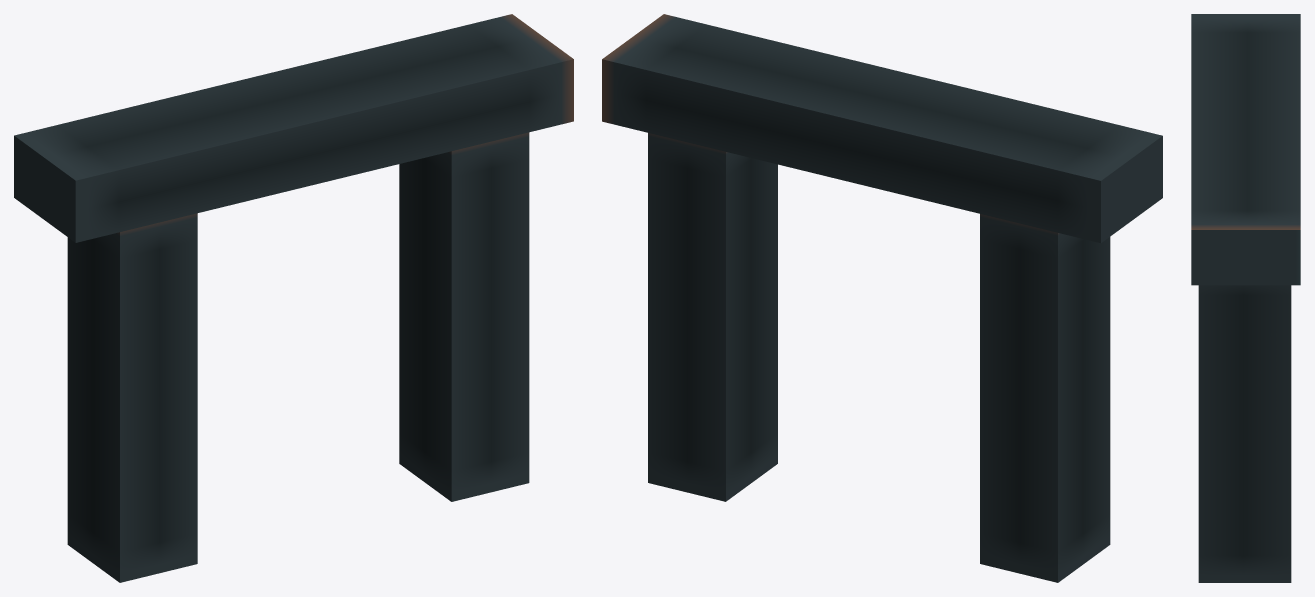
The model's file is horse_parking_small_v03.fbx.
3 renders of one model, left to right at view 1: azimuth 30°, elevation 25°; view 2: azimuth 150°, elevation 25°; view 3: azimuth 270°, elevation 25°, orthographic. The views are drawn at different scales.
Visible parts, largest first — view 1: horse_parking_small_v03; view 2: horse_parking_small_v03; view 3: horse_parking_small_v03.
Boxes of the visible parts, bbox=[...] form: horse_parking_small_v03: bbox=[14, 14, 573, 582]; horse_parking_small_v03: bbox=[602, 14, 1162, 582]; horse_parking_small_v03: bbox=[1191, 14, 1300, 582].
Bounding box in the file's own units: 175 × 140 × 37.6.
